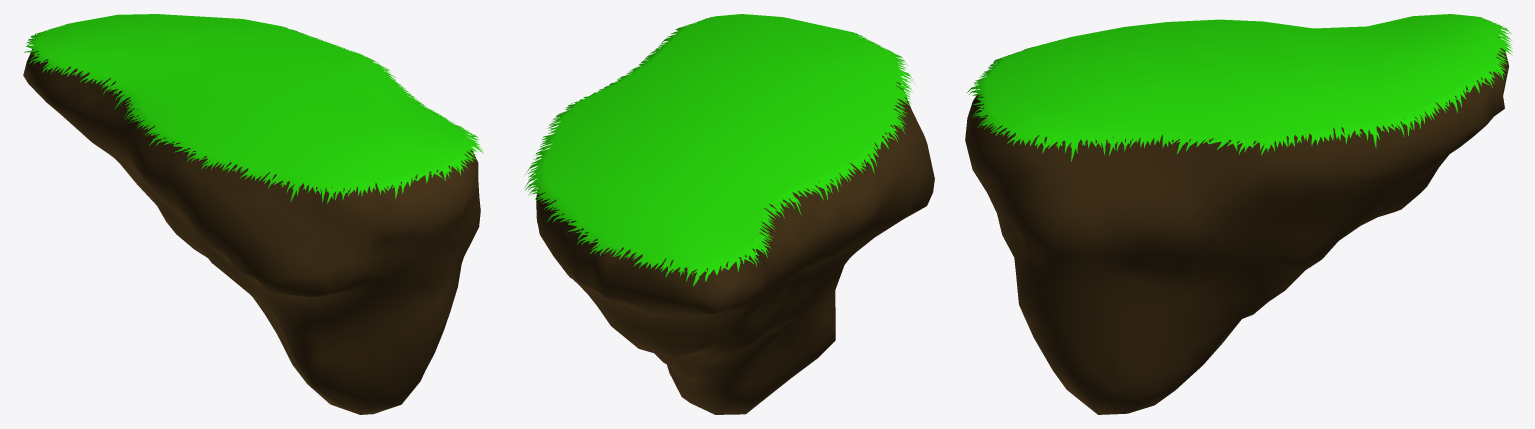
Rendered from IslandGrassSmall1.FBX.
3 renders of one model, left to right at view 1: azimuth 30°, elevation 25°; view 2: azimuth 150°, elevation 25°; view 3: azimuth 270°, elevation 25°, orthographic. The views are drawn at different scales.
Visible parts, largest first — view 1: Plane024; view 2: Plane024; view 3: Plane024.
Part boxes in pixels (x1,y1,x2,y2): Plane024: (23,14,483,414); Plane024: (524,14,934,414); Plane024: (965,14,1512,414).
Bounding box in the file's own units: 547 × 554 × 906.
